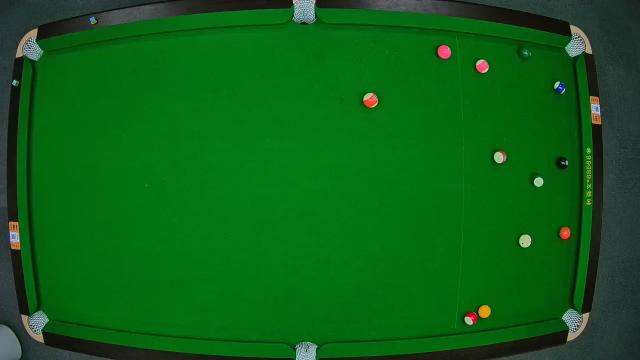bag1: (22, 38, 44, 60)
bag2: (291, 0, 317, 26)
bag3: (566, 29, 588, 57)
bag4: (29, 310, 49, 334)
bag5: (294, 340, 318, 360)
bag6: (563, 308, 585, 332)
ball0: (518, 234, 532, 248)
ball1: (480, 304, 492, 318)
ball10: (554, 81, 568, 95)
ball11: (463, 311, 479, 325)
ball12: (476, 58, 488, 74)
ball13: (364, 92, 380, 108)
ball14: (532, 173, 544, 187)
ball15: (494, 150, 506, 164)
ball4: (437, 44, 453, 60)
ball5: (558, 226, 572, 241)
ball6: (518, 44, 534, 58)
ball8: (556, 156, 570, 170)
